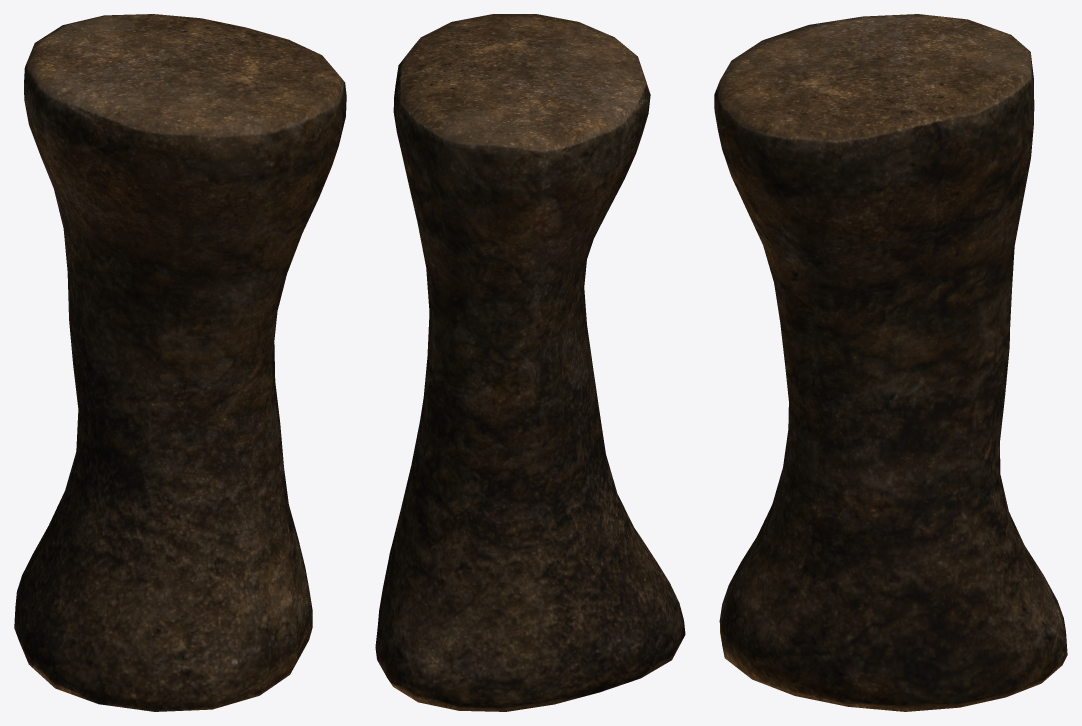
File: SM_TI_Column_4m_0.fbx
The picture shows the model from 3 angles, left to right: view 1: azimuth 30°, elevation 25°; view 2: azimuth 150°, elevation 25°; view 3: azimuth 270°, elevation 25°; orthographic projection. The views are drawn at different scales.
Parts seen in each view (by area): view 1: SM_TI_Column_4m_0; view 2: SM_TI_Column_4m_0; view 3: SM_TI_Column_4m_0.
Boxes of the visible parts, x1,y1,x2,y2 form: SM_TI_Column_4m_0: [14, 14, 346, 711]; SM_TI_Column_4m_0: [375, 14, 685, 711]; SM_TI_Column_4m_0: [714, 14, 1067, 711].
Size of the model in its own units: 2 by 2.2 by 4.1.
